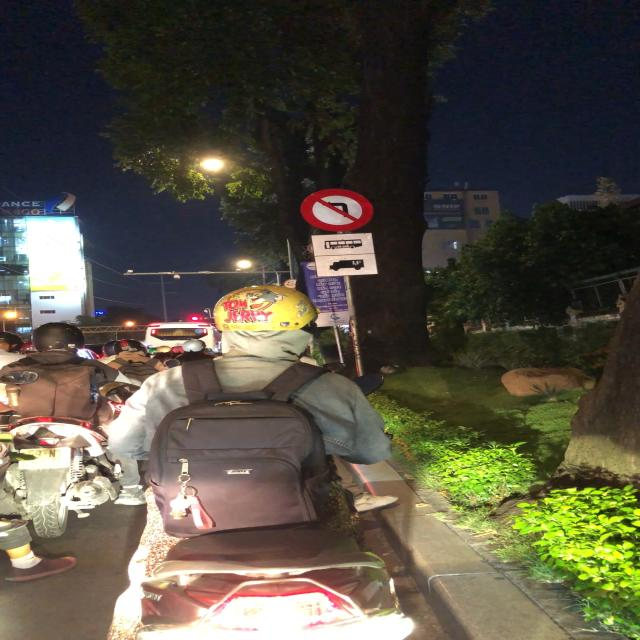Bien bao cam re trai: (299, 187, 377, 232)
